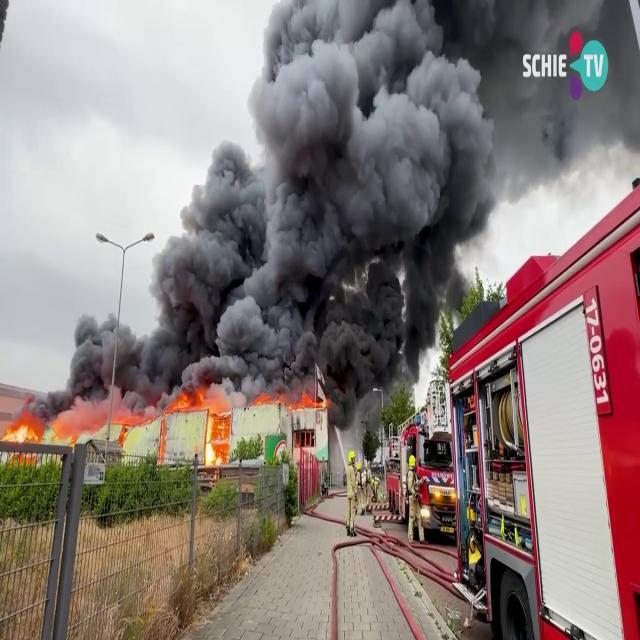Fire: (4, 398, 148, 446)
Smoke: (62, 0, 592, 390), (52, 306, 152, 418)
